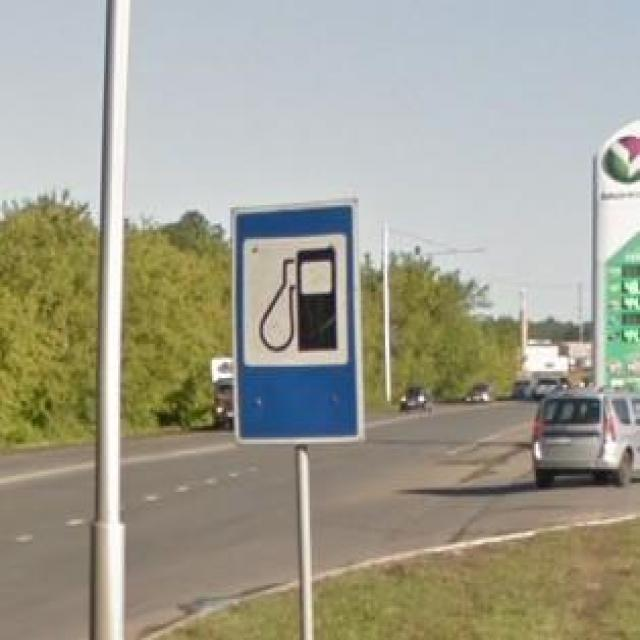traffic_sign: (230, 198, 369, 447)
